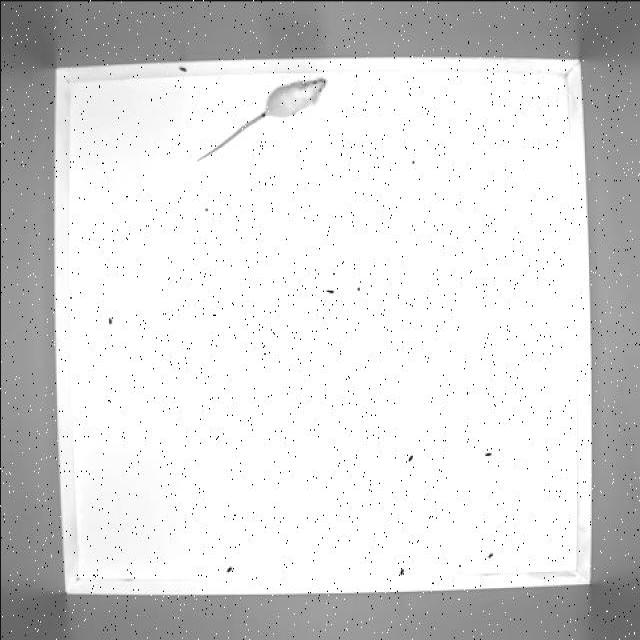rat: (191, 76, 324, 164)
